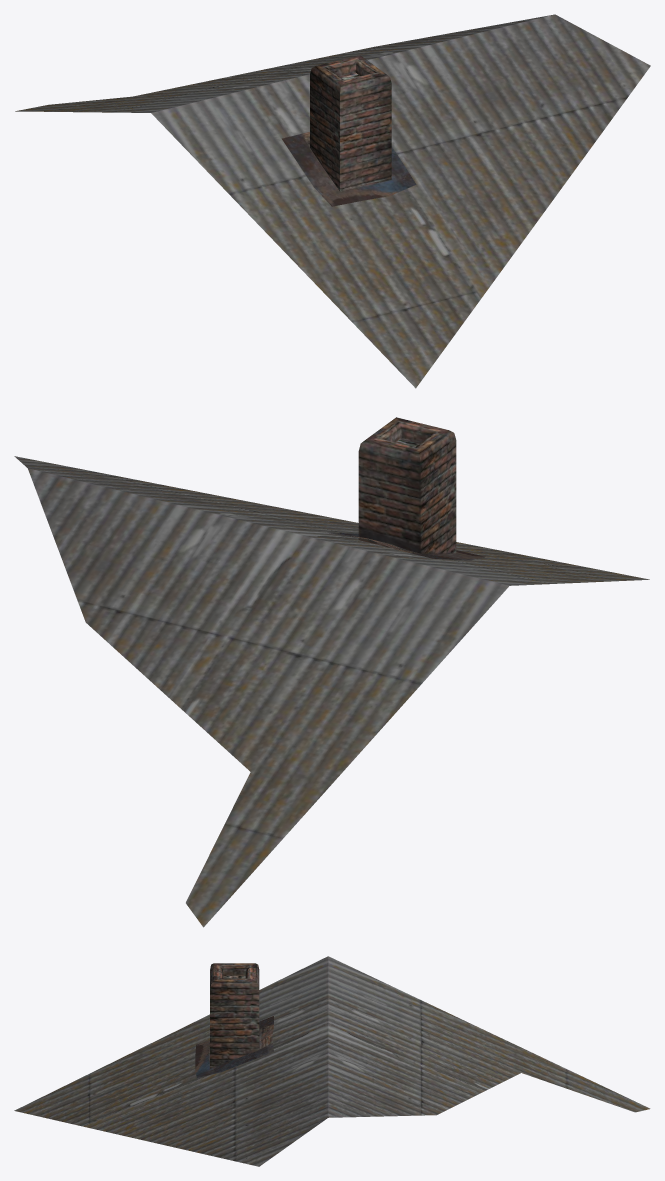
The model's file is House_03_10.fbx.
The picture shows the model from 3 angles, top to bottom: view 1: azimuth 30°, elevation 25°; view 2: azimuth 150°, elevation 25°; view 3: azimuth 270°, elevation 25°; orthographic projection. The views are drawn at different scales.
Parts seen in each view (by area): view 1: Дом2.010; view 2: Дом2.010; view 3: Дом2.010.
Boxes of the visible parts, left/top/right/bottom form: Дом2.010: left=15, top=14, right=650, bottom=388; Дом2.010: left=14, top=417, right=649, bottom=927; Дом2.010: left=14, top=956, right=650, bottom=1166.
Size of the model in its own units: 12.98 by 5.61 by 19.07.
Materials: 1 (1 with a texture image).
